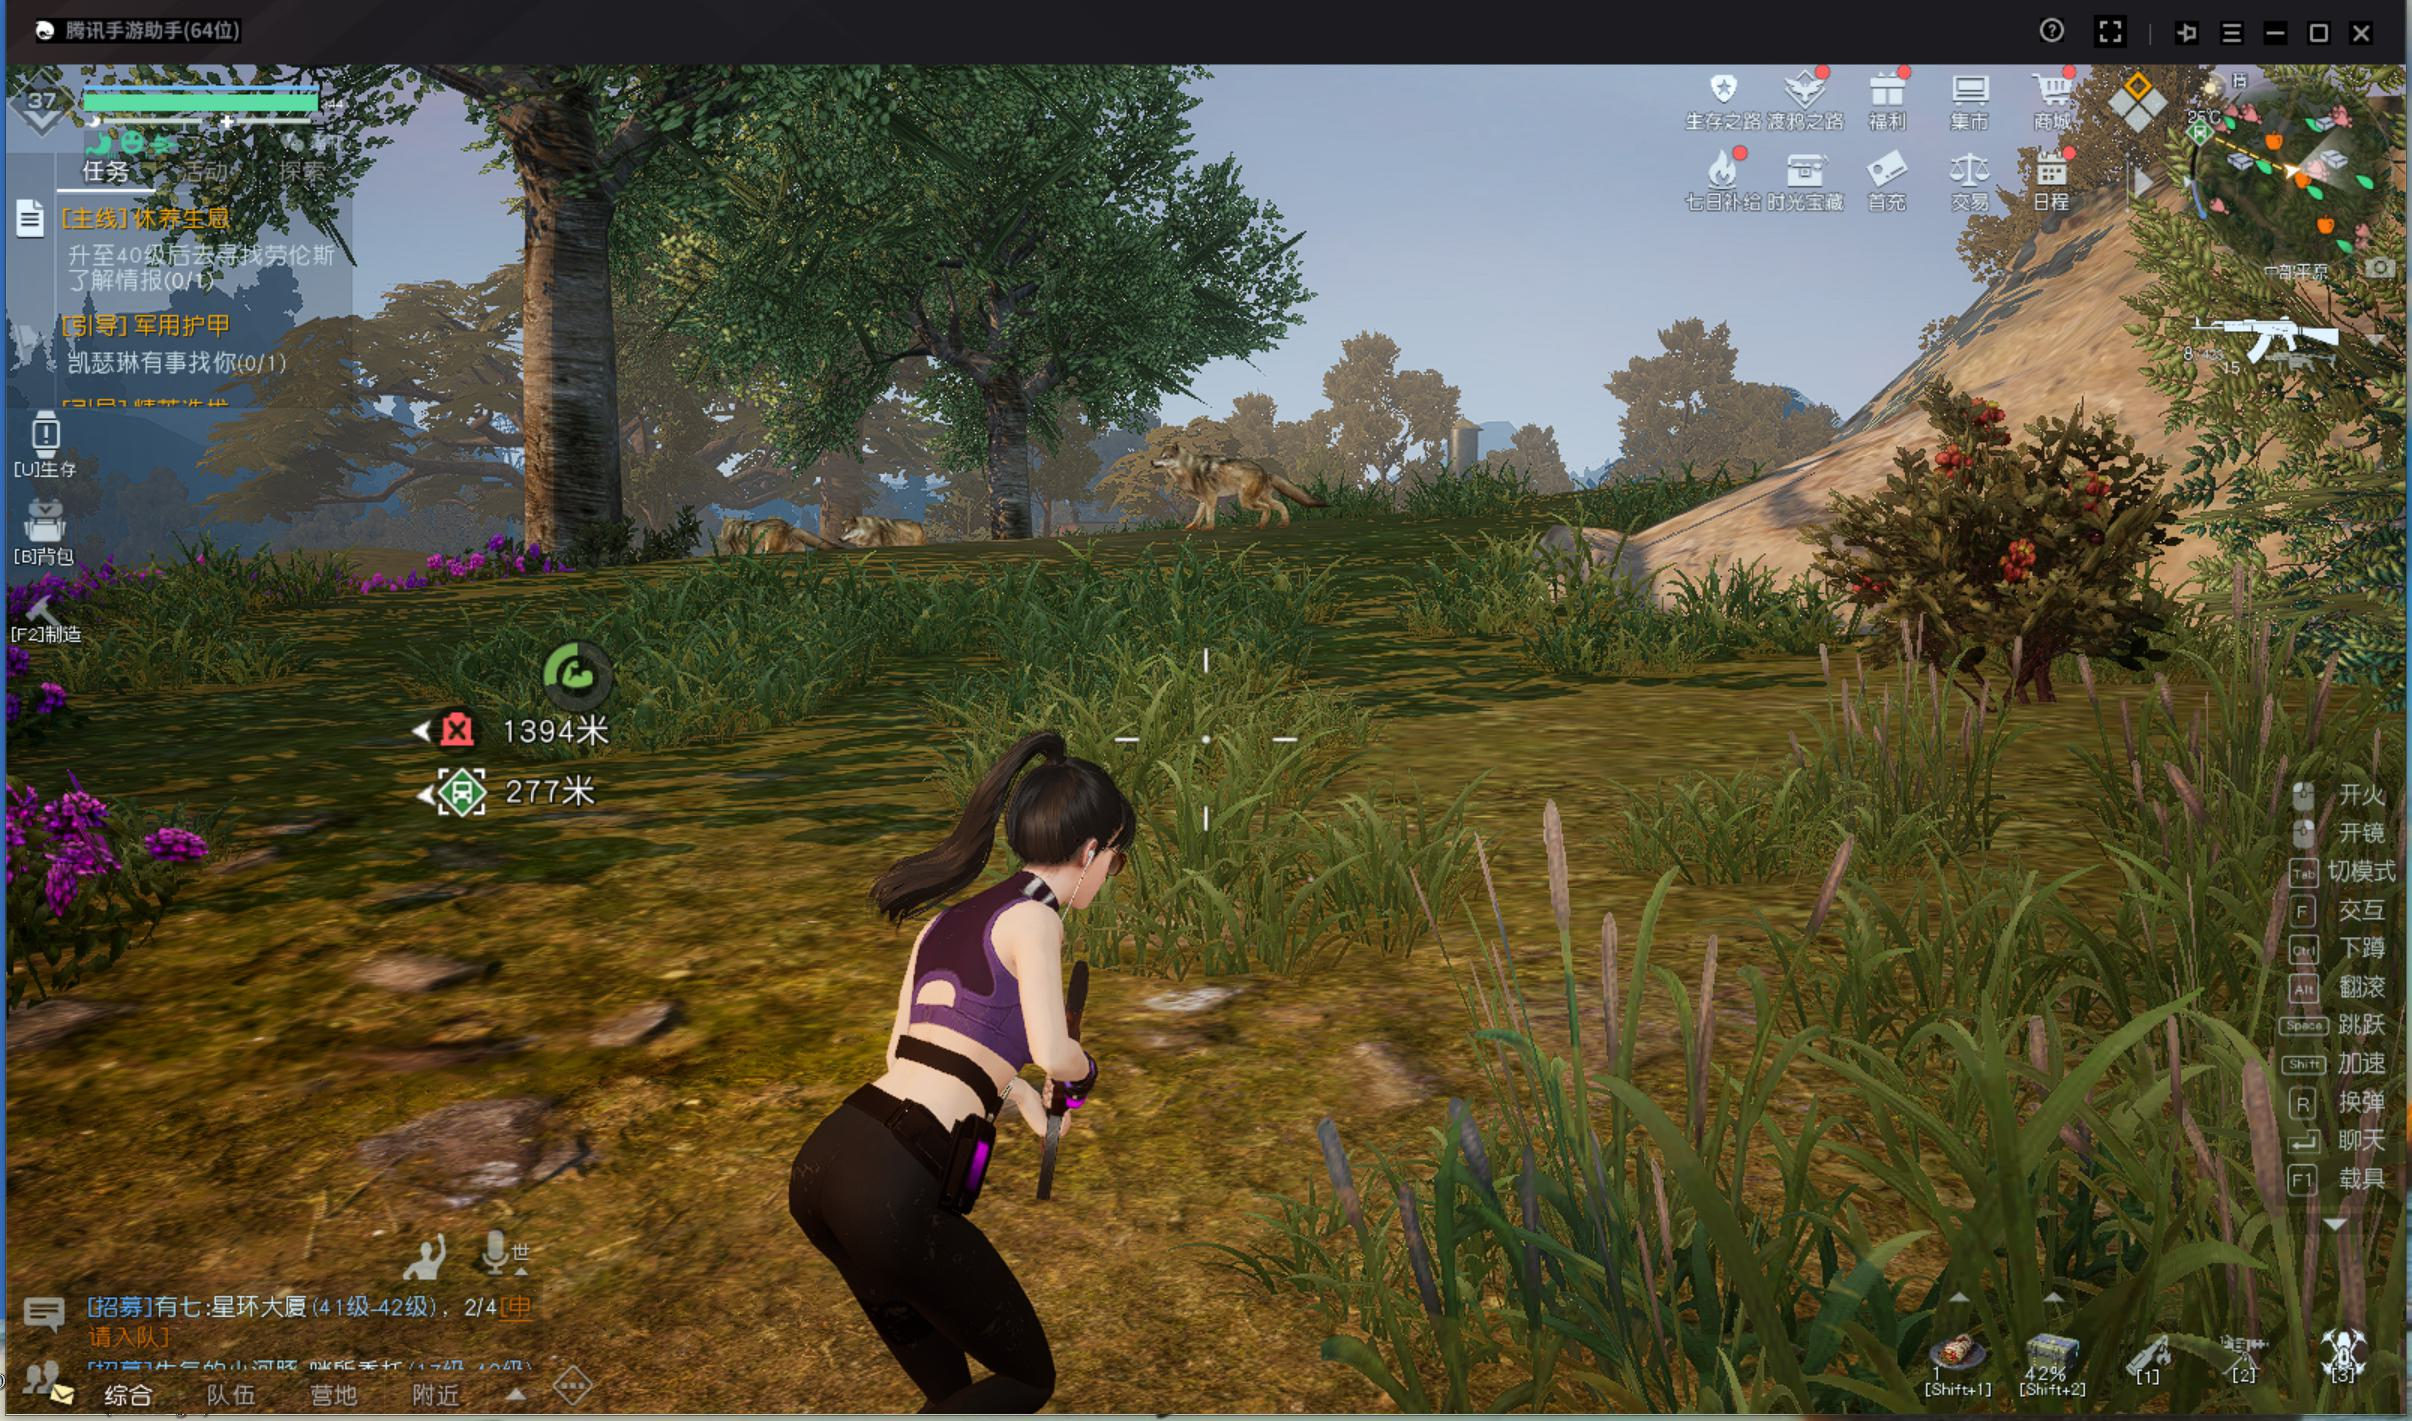tree: (502, 215, 650, 595), (983, 392, 1037, 557)
